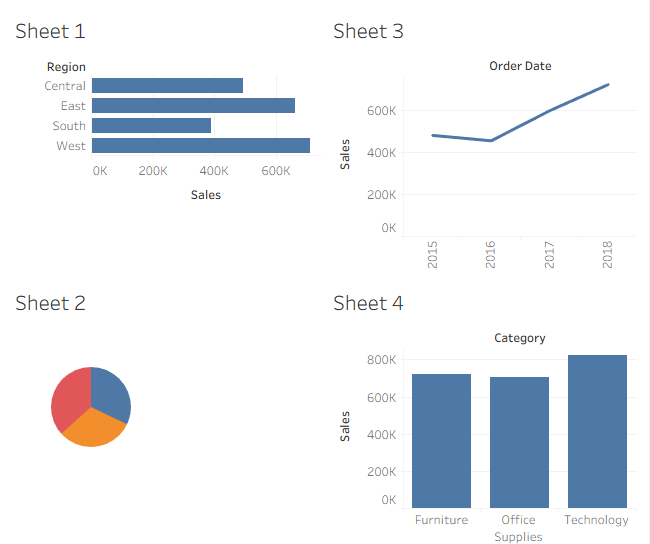

This screenshot's page, from the dashboard's own definition file:
{"tool":"tableau","page":{"name":"Dashboard 1","canvas":[650,860],"ordinal":0},"visuals":[{"type":"worksheet","title":"Sheet 1","mark":"Automatic","rows":["Region"],"cols":["Sales"],"box":[8,12.3,317.6,417.7]},{"type":"worksheet","title":"Sheet 3","mark":"Automatic","rows":["Sales"],"cols":["Order Date"],"box":[325.6,12.3,316.4,417.7]},{"type":"worksheet","title":"Sheet 2","mark":"Pie","box":[8,430,317.6,417.7]},{"type":"worksheet","title":"Sheet 4","mark":"Automatic","rows":["Sales"],"cols":["Category"],"box":[325.6,430,316.4,417.7]}]}

Visuals, with their boxes on the page's 650x860 design canvas (x1, y1, x2, y2). These are canvas units, not pixel positions in the 650x544 screenshot, which may show the page scaled, cropped or inside an application window:
"Sheet 1" worksheet: (x1=8, y1=12, x2=326, y2=430)
"Sheet 3" worksheet: (x1=326, y1=12, x2=642, y2=430)
"Sheet 2" worksheet (Pie marks): (x1=8, y1=430, x2=326, y2=848)
"Sheet 4" worksheet: (x1=326, y1=430, x2=642, y2=848)
